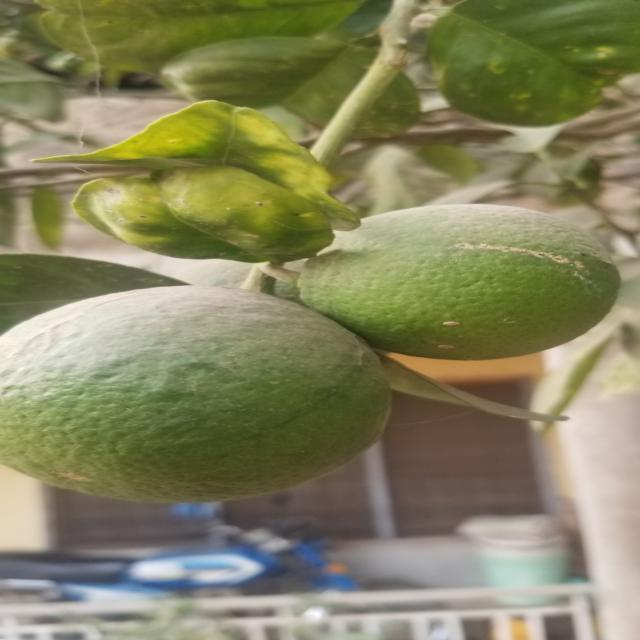Unripe: (0, 280, 389, 510), (307, 205, 614, 362)
